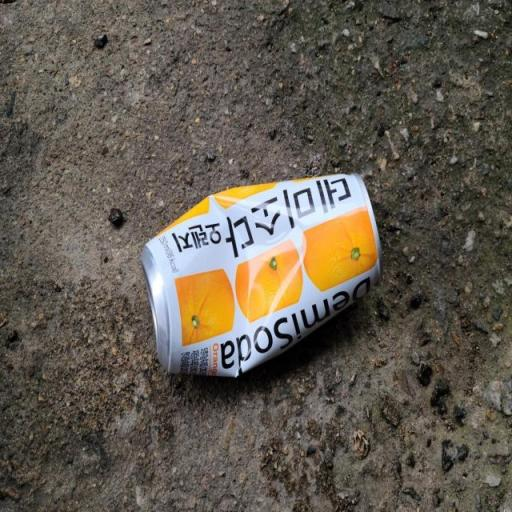metal: (128, 153, 394, 401)
